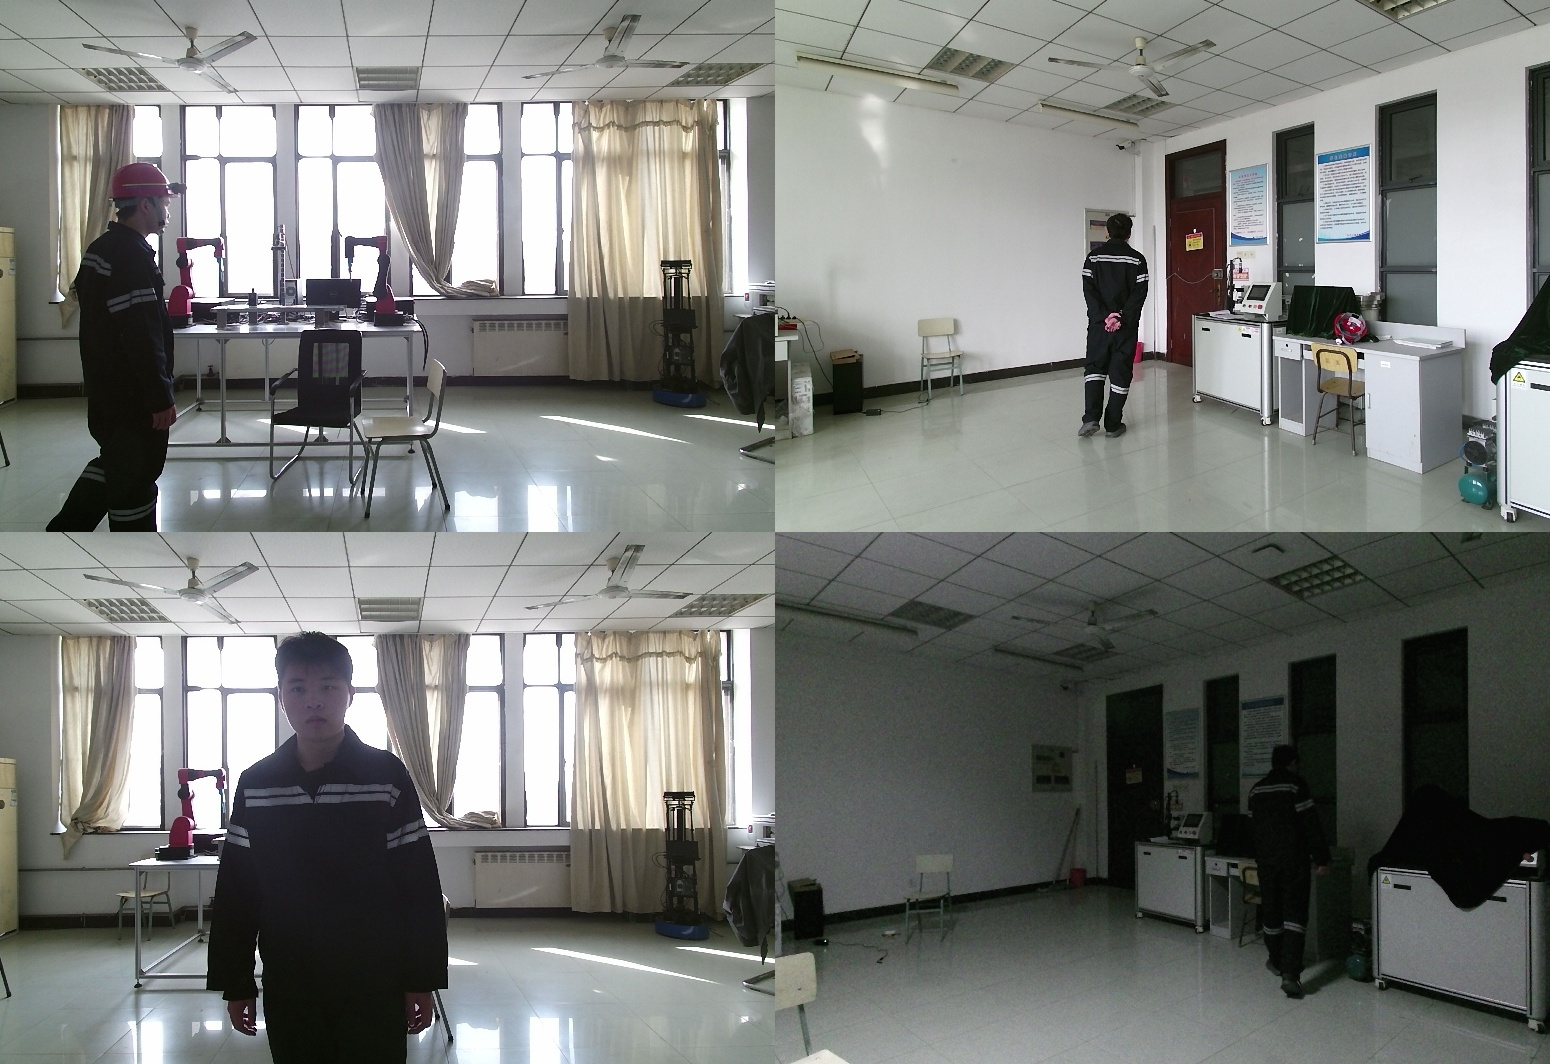person: (220, 632, 459, 1064), (46, 163, 190, 532), (1246, 744, 1343, 998), (1074, 213, 1157, 440)
